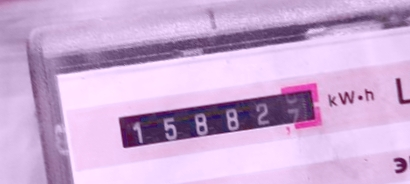1: (130, 118, 145, 146)
2: (253, 100, 272, 127)
5: (161, 114, 178, 142)
7: (285, 105, 302, 124)
8: (191, 110, 211, 137), (223, 105, 241, 132)
screen: (107, 76, 332, 163)
